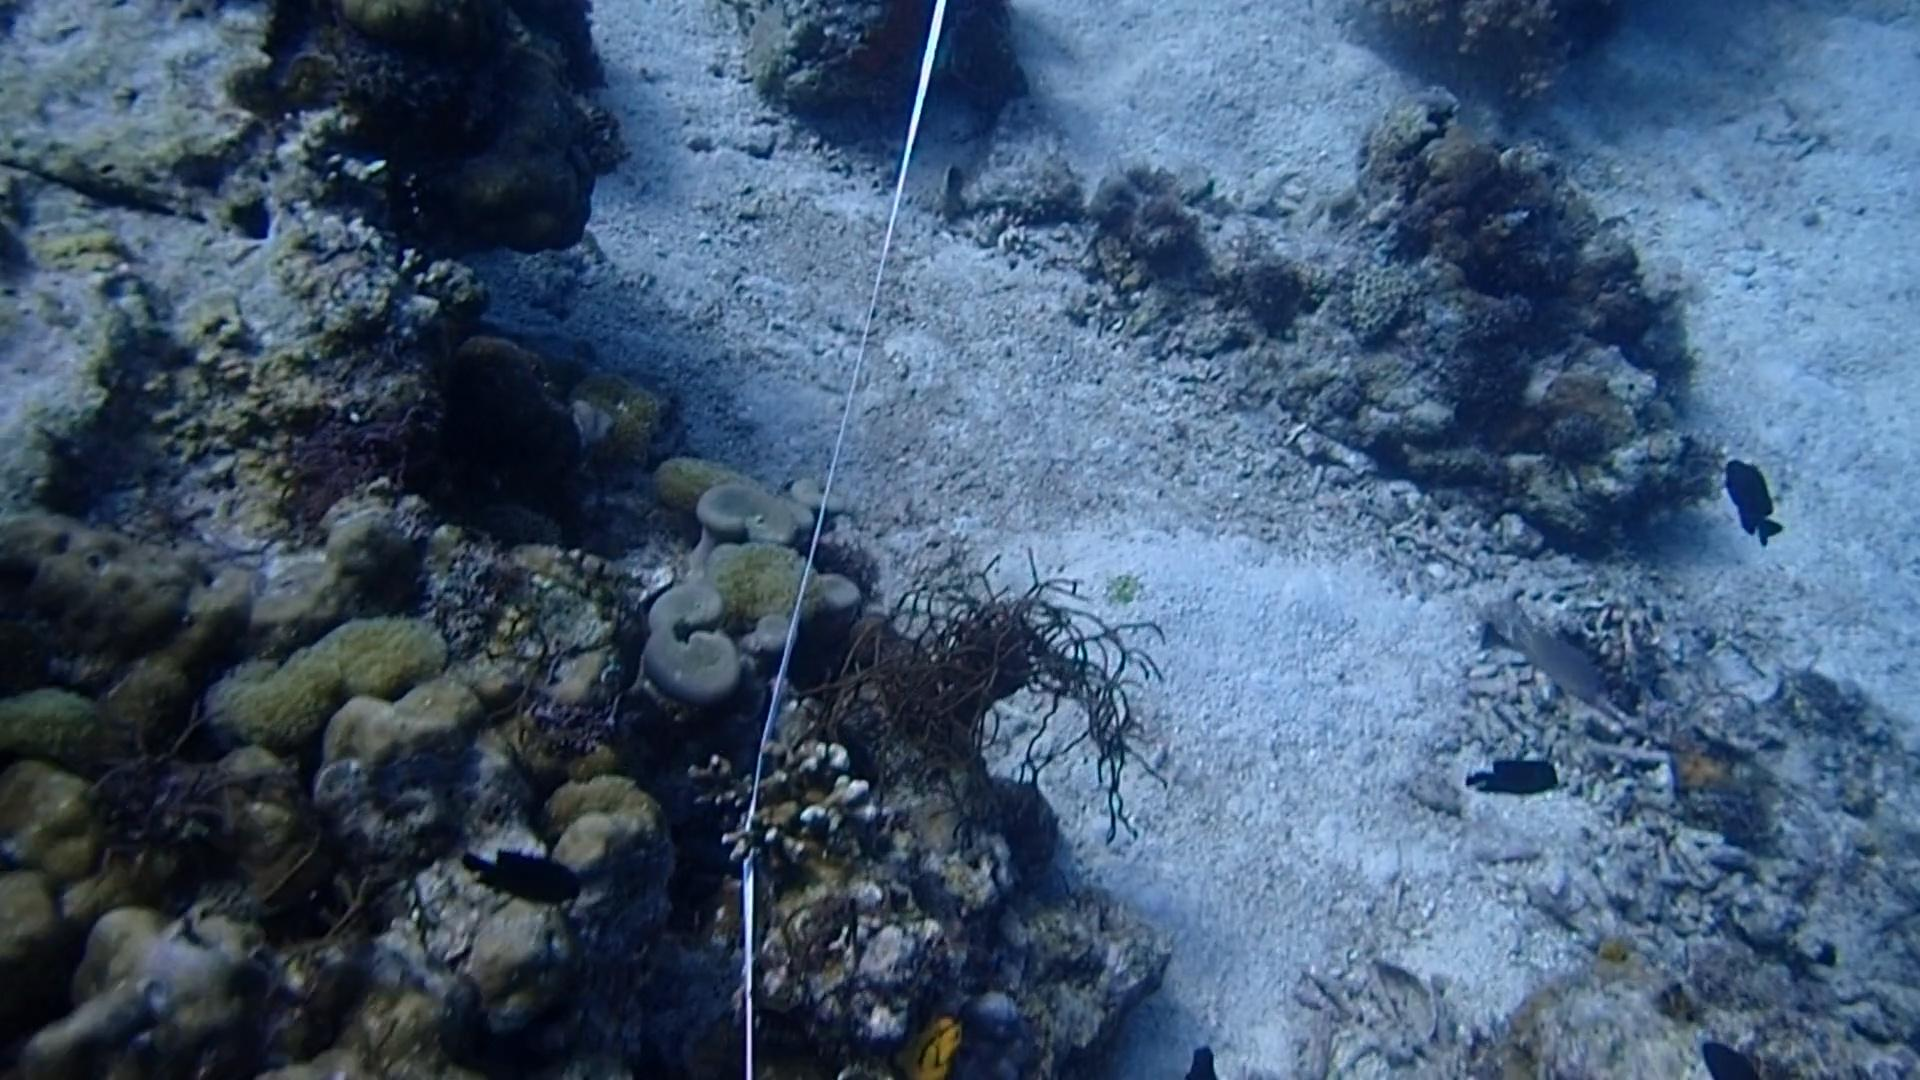Dark Fish: (1712, 443, 1791, 551), (1449, 741, 1565, 811)
Light Fish: (1498, 607, 1607, 717)
